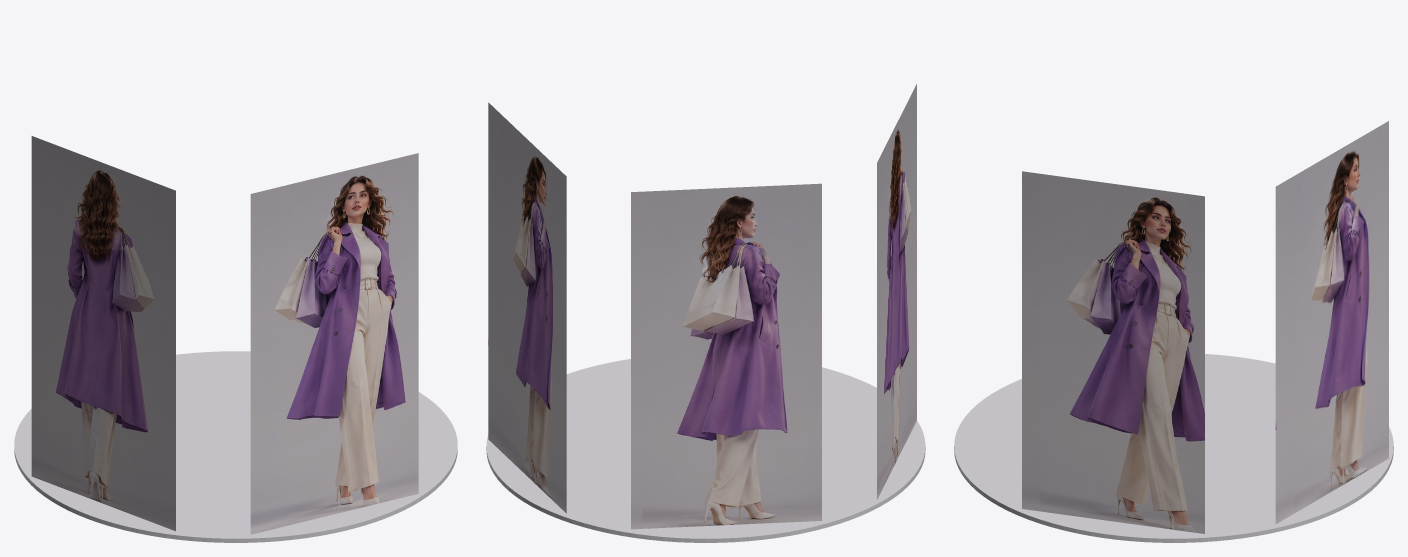
The model's file is hero.glb.
3 views of the same model, side by side, from view 1: azimuth 30°, elevation 25°; view 2: azimuth 150°, elevation 25°; view 3: azimuth 270°, elevation 25° (orthographic).
Visible parts, largest first — view 1: Turnaround_View_1, Turnaround_View_5, Display_Base; view 2: Turnaround_View_4, Turnaround_View_3, Display_Base, Turnaround_View_5; view 3: Turnaround_View_2, Turnaround_View_3, Display_Base.
Boxes of the visible parts, bbox=[...] form: Turnaround_View_1: bbox=[250, 153, 418, 534]; Turnaround_View_5: bbox=[31, 136, 175, 531]; Display_Base: bbox=[14, 351, 457, 542]; Turnaround_View_4: bbox=[631, 183, 821, 529]; Turnaround_View_3: bbox=[488, 102, 566, 513]; Display_Base: bbox=[486, 359, 925, 542]; Turnaround_View_5: bbox=[877, 84, 916, 499]; Turnaround_View_2: bbox=[1022, 171, 1204, 533]; Turnaround_View_3: bbox=[1275, 121, 1388, 523]; Display_Base: bbox=[954, 354, 1393, 542].
Bounding box in the file's own units: 2.36 × 2.04 × 2.36.
Materials: 5 (5 with a texture image).
